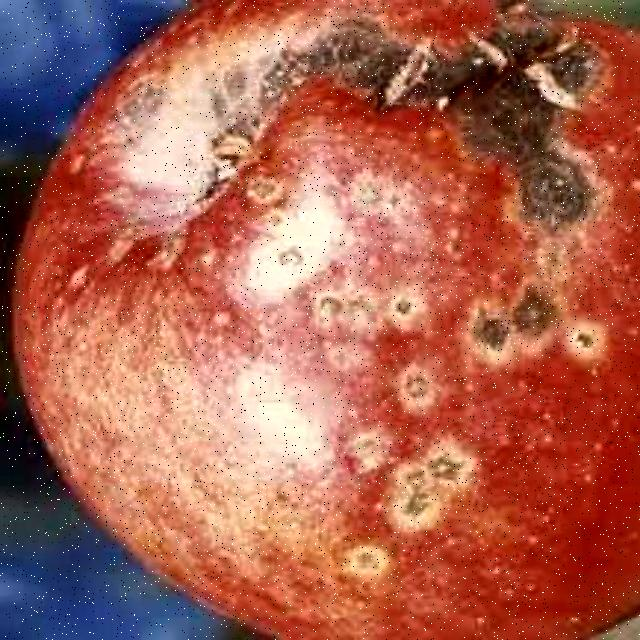SCAB: (13, 2, 640, 626)
